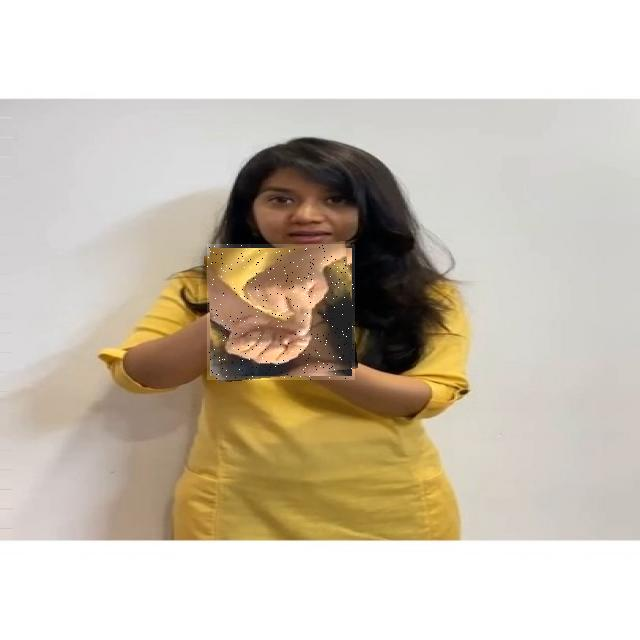I: (207, 244, 355, 380)
